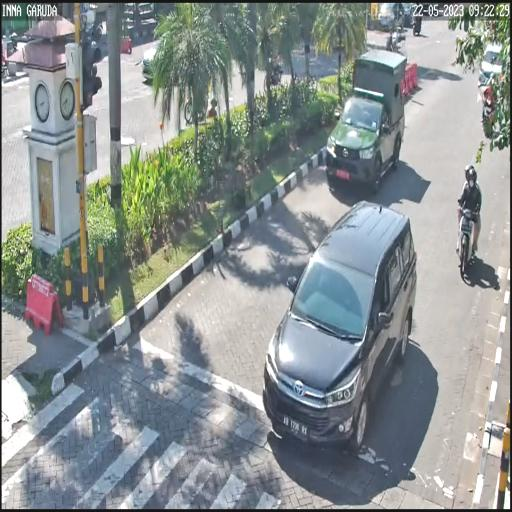mobil: (264, 197, 422, 464), (320, 44, 410, 202)
motor: (452, 184, 486, 282)
